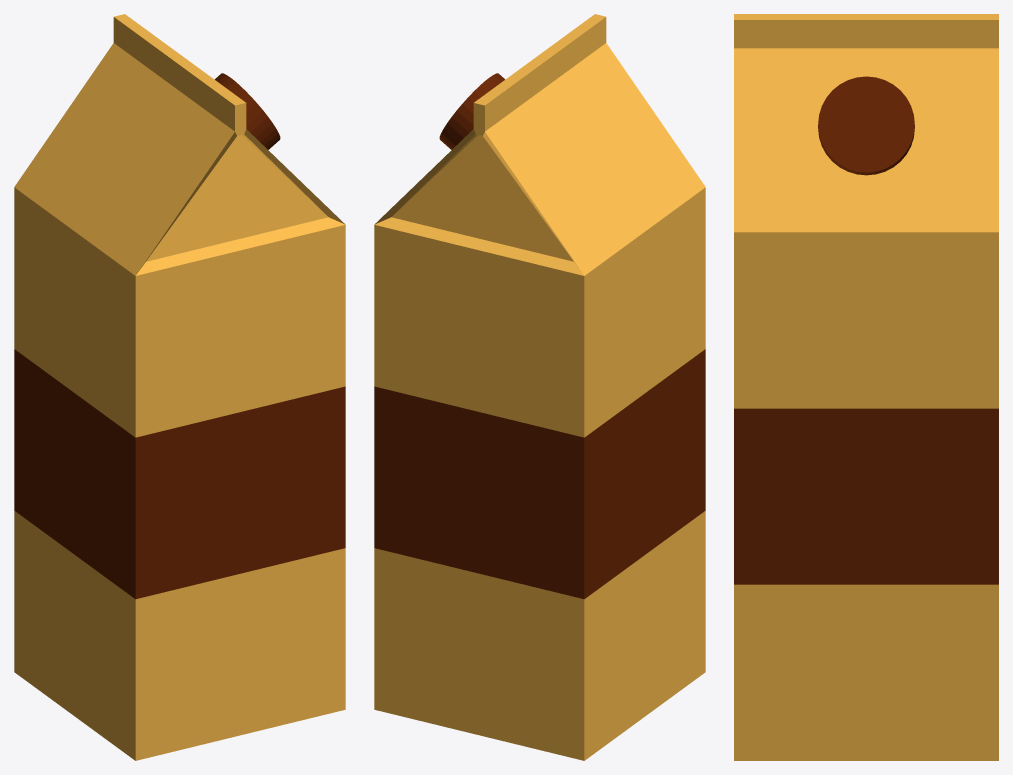
File: healingdrink.fbx
3 views of the same model, side by side, from view 1: azimuth 30°, elevation 25°; view 2: azimuth 150°, elevation 25°; view 3: azimuth 270°, elevation 25° (orthographic). The views are drawn at different scales.
Parts seen in each view (by area): view 1: melk; view 2: melk; view 3: melk.
Part boxes in pixels (<box>): melk: <box>14,14,345,760</box>; melk: <box>374,14,705,760</box>; melk: <box>734,14,998,760</box>.
Size of the model in its own units: 270 by 773 by 270.
